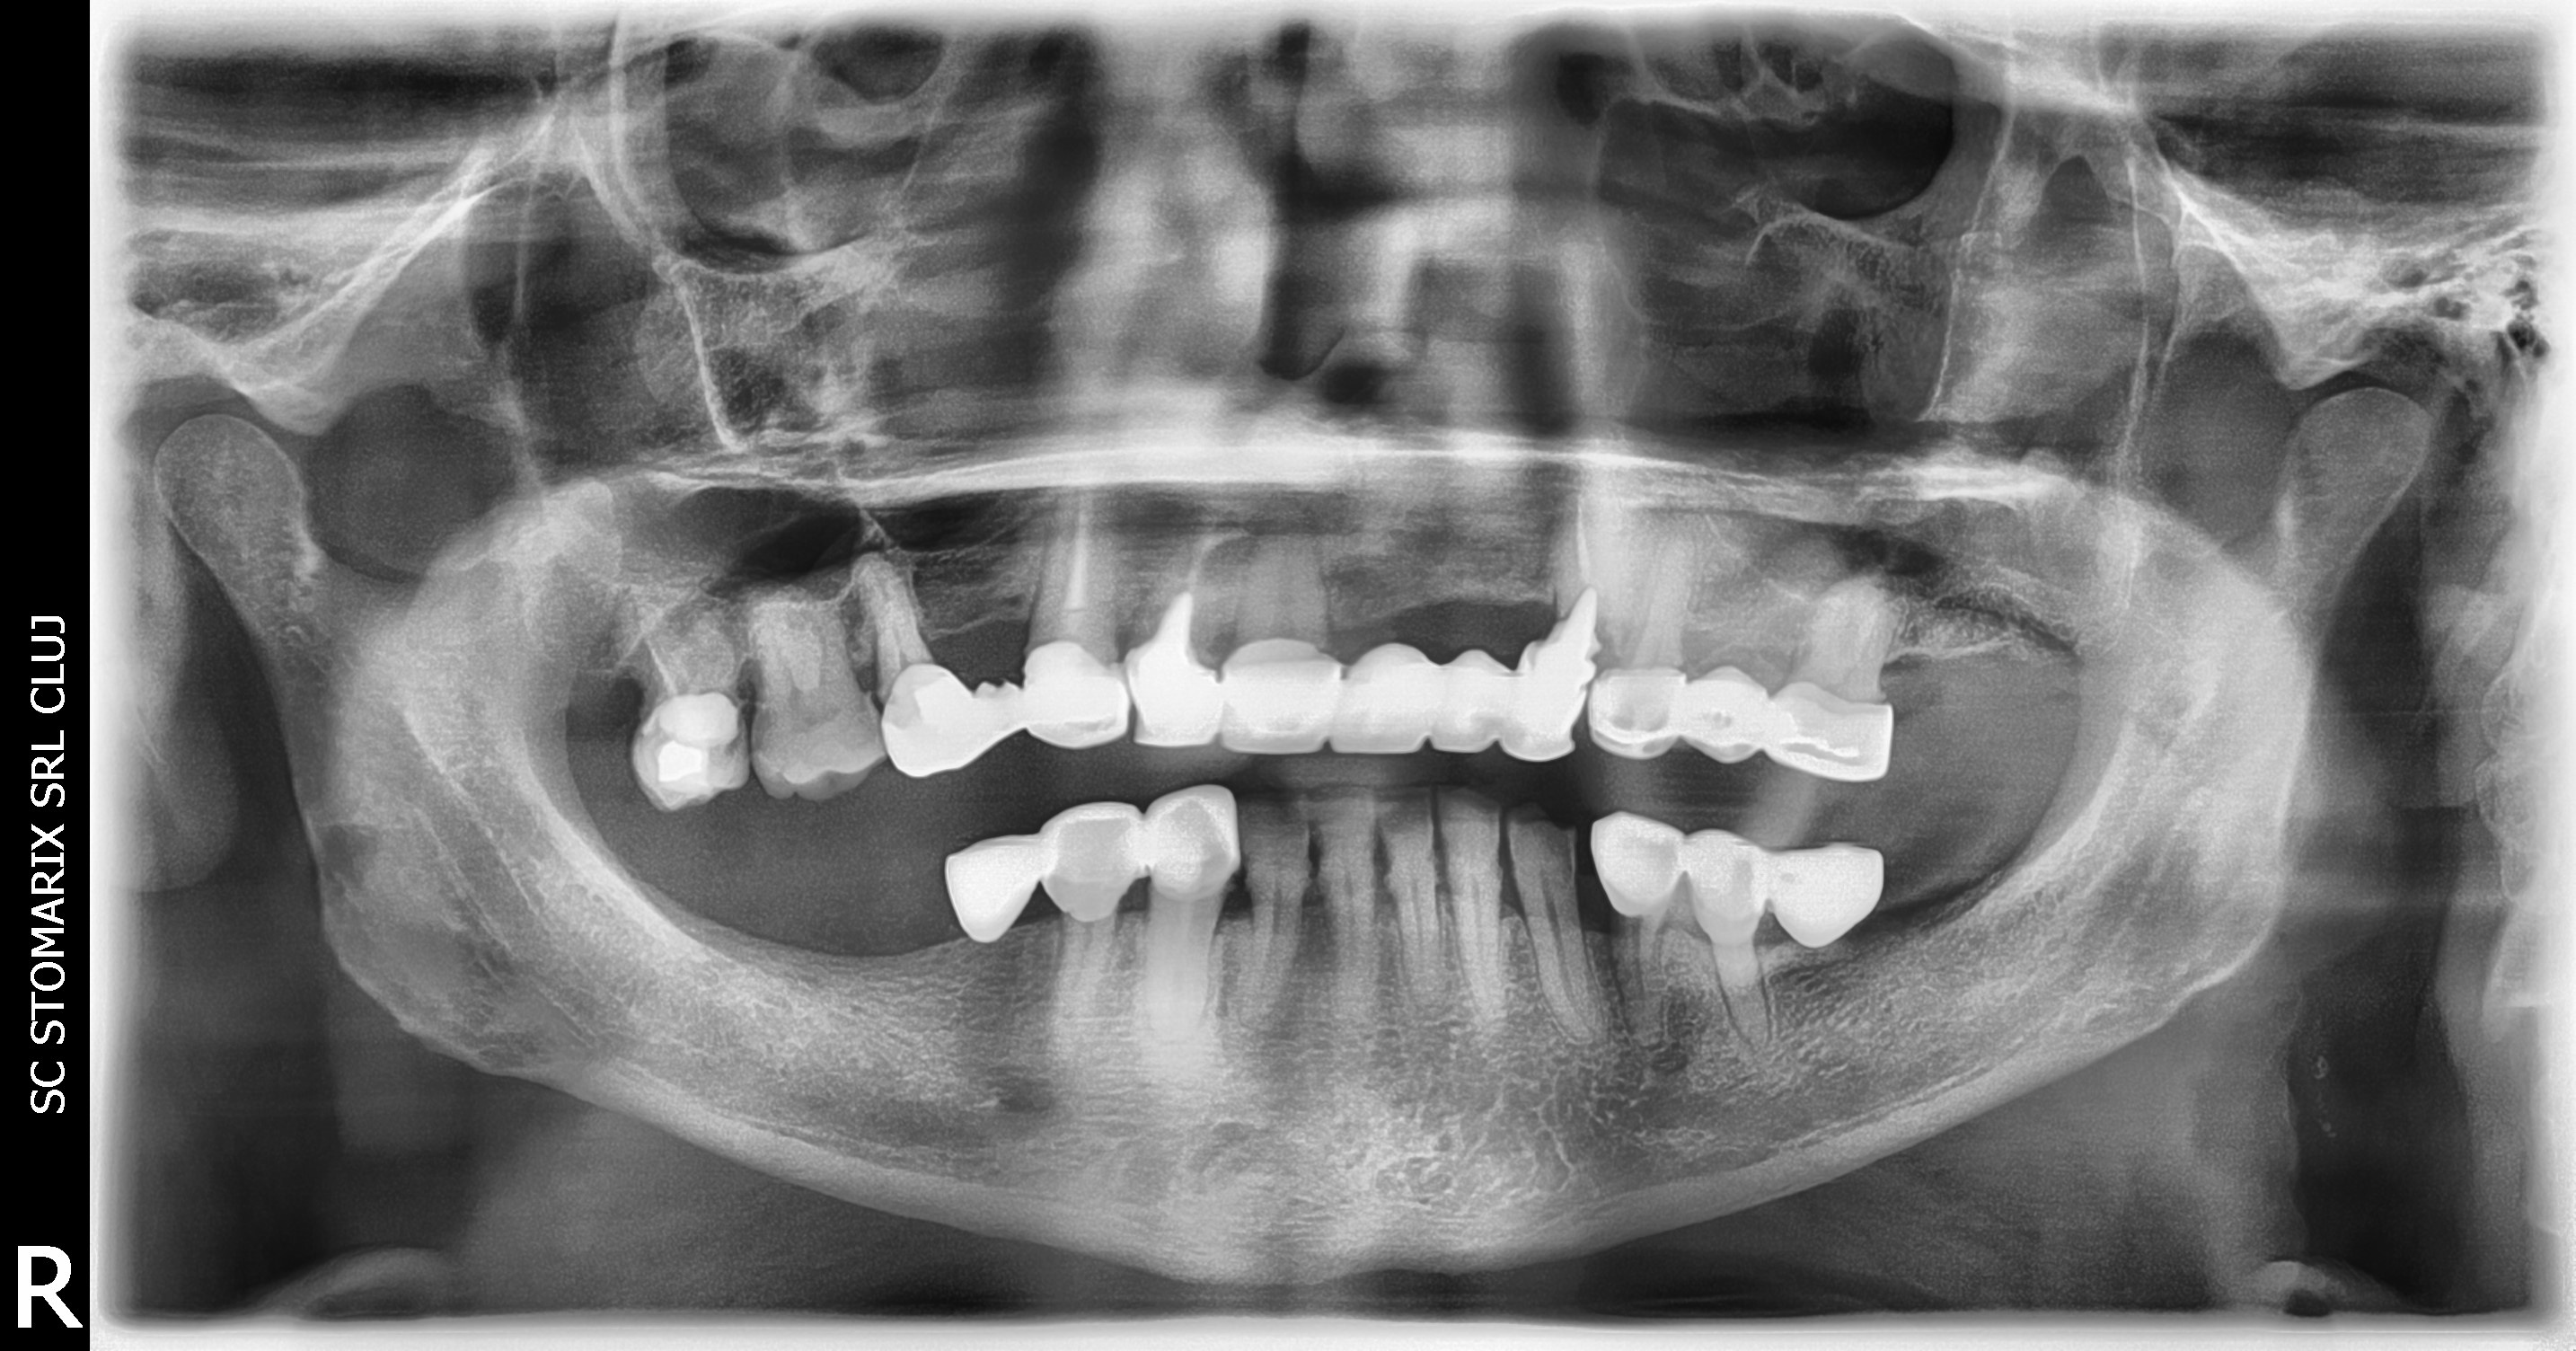END: (734, 162, 2339, 777), (463, 121, 1586, 768), (249, 221, 959, 925)
OBT: (250, 279, 1007, 1090)
PRR: (635, 295, 2530, 1276), (603, 239, 2530, 1038), (307, 187, 1941, 968), (300, 293, 1550, 1247), (278, 252, 1412, 1049)
